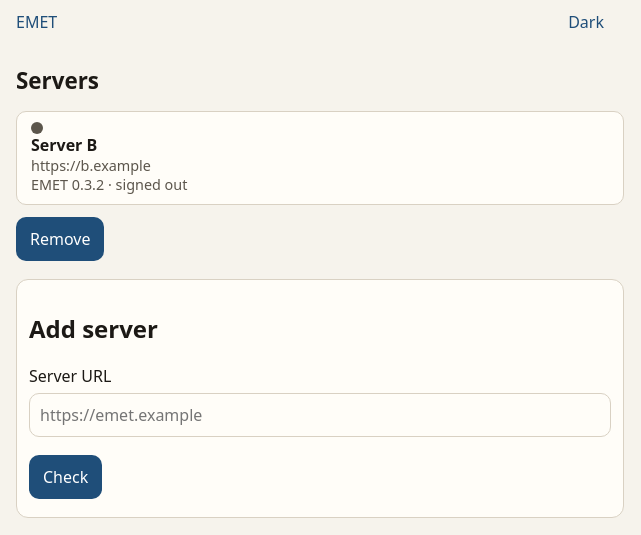
Test: per-server requests › removing a server deletes its token and remembered key
The image size is (641, 535).
Click the button "Remove". click: coordinates (60, 239)
box: [16, 217, 104, 261]
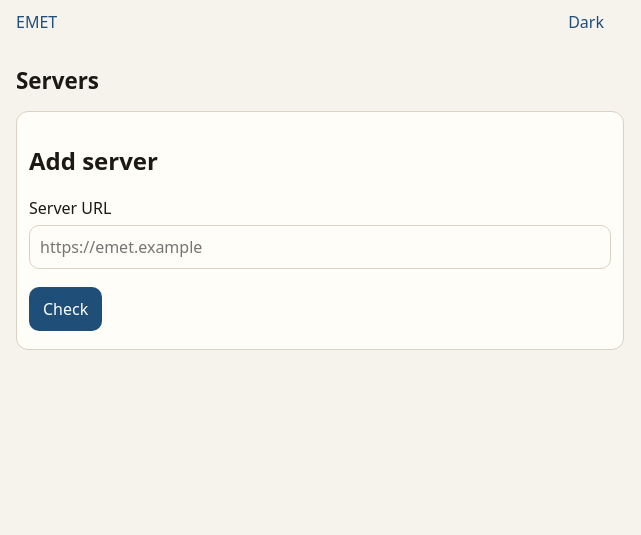
Now the button "Server B" is gone
